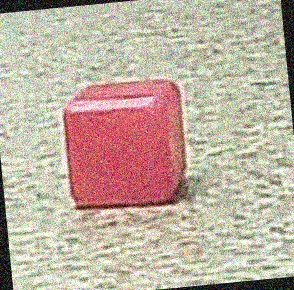orange_cube: (58, 77, 200, 218)
